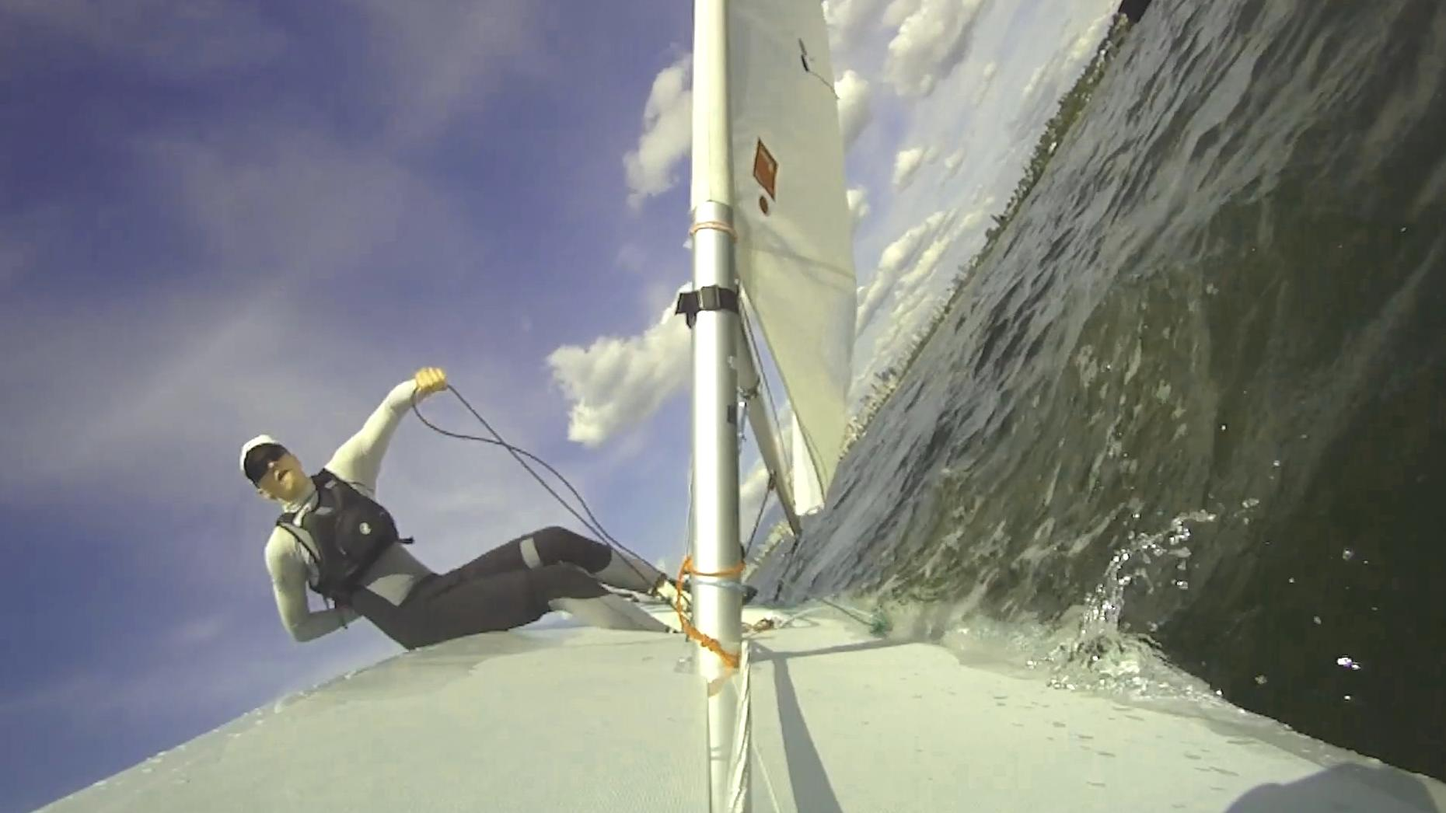boat: (32, 0, 1446, 813)
person: (241, 368, 669, 651)
sea: (748, 0, 1446, 785)
sky: (0, 0, 697, 813), (825, 0, 1124, 416), (739, 404, 784, 555)
